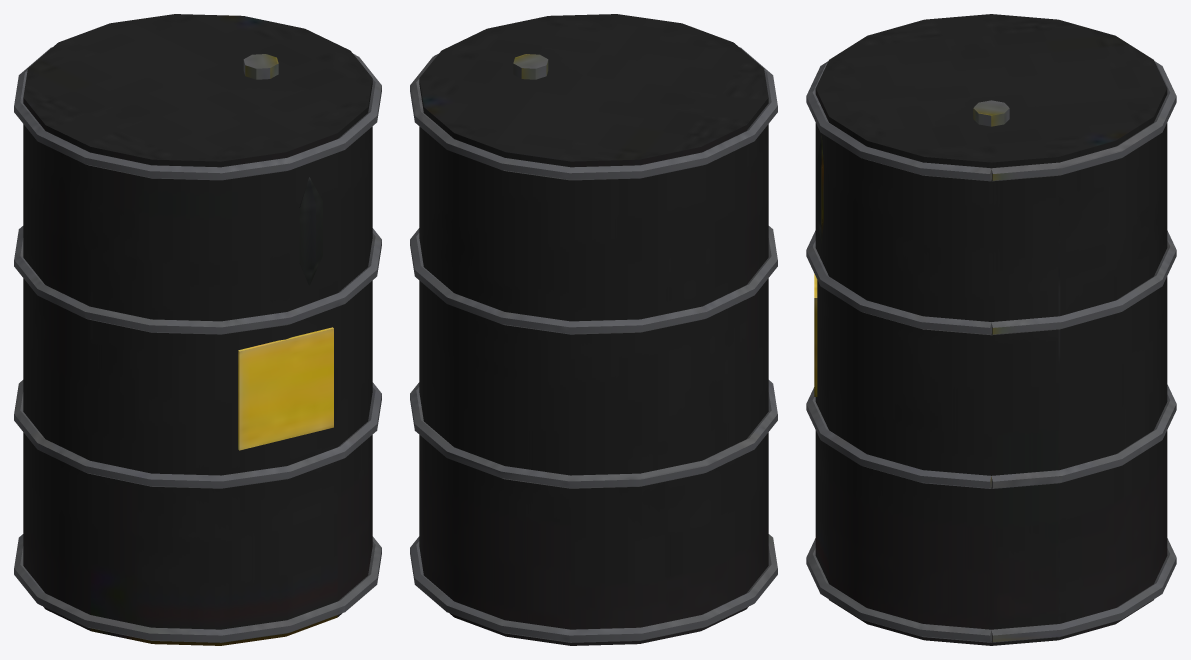
The model's file is barrel_drum.glb.
3 views of the same model, side by side, from view 1: azimuth 30°, elevation 25°; view 2: azimuth 150°, elevation 25°; view 3: azimuth 270°, elevation 25° (orthographic).
Parts seen in each view (by area): view 1: barrel_drum; view 2: barrel_drum; view 3: barrel_drum.
Part boxes in pixels (bbox=[...]): barrel_drum: bbox=[14, 14, 381, 645]; barrel_drum: bbox=[410, 14, 777, 645]; barrel_drum: bbox=[806, 14, 1176, 645].
Bounding box in the file's own units: 0.6106 × 0.9 × 0.6108.
Materials: 3 (3 with a texture image).
